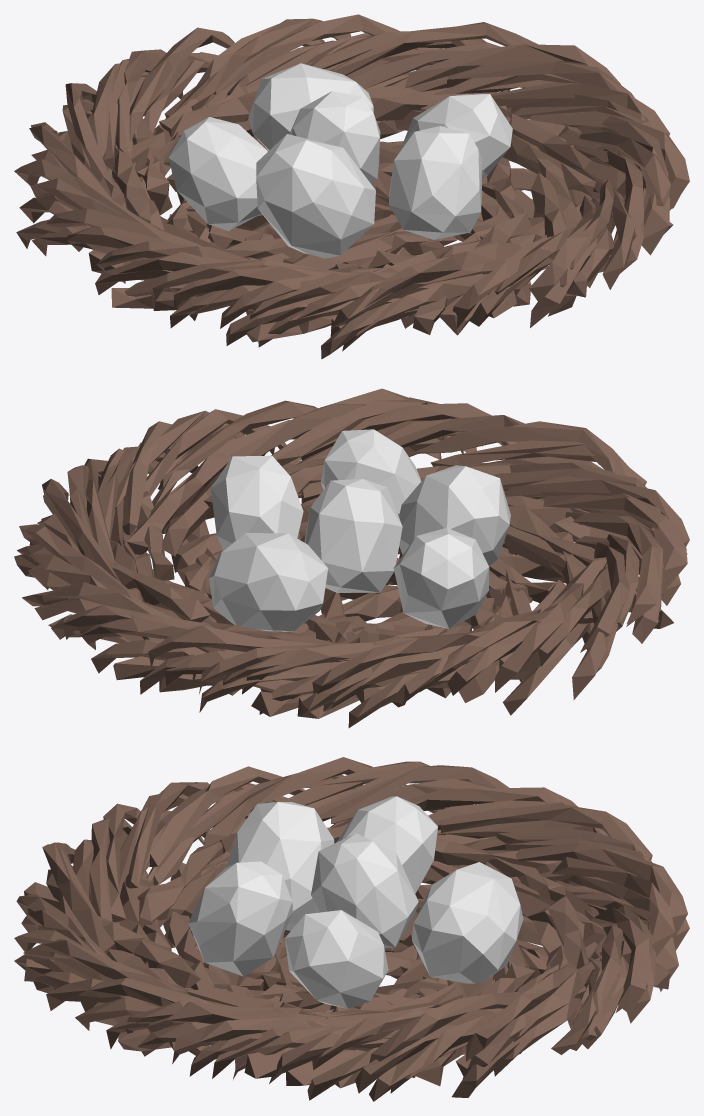
The model's file is Nest_04.fbx.
The picture shows the model from 3 angles, top to bottom: view 1: azimuth 30°, elevation 25°; view 2: azimuth 150°, elevation 25°; view 3: azimuth 270°, elevation 25°; orthographic projection.
Parts seen in each view (by area): view 1: Nest_04_LOD0; view 2: Nest_04_LOD0; view 3: Nest_04_LOD0.
Boxes of the visible parts, x1,y1,x2,y2 form: Nest_04_LOD0: (14, 14, 689, 358); Nest_04_LOD0: (14, 388, 689, 727); Nest_04_LOD0: (14, 757, 689, 1101).
Size of what is drawn, in the model's own units: 70.33 by 17.17 by 69.87.
